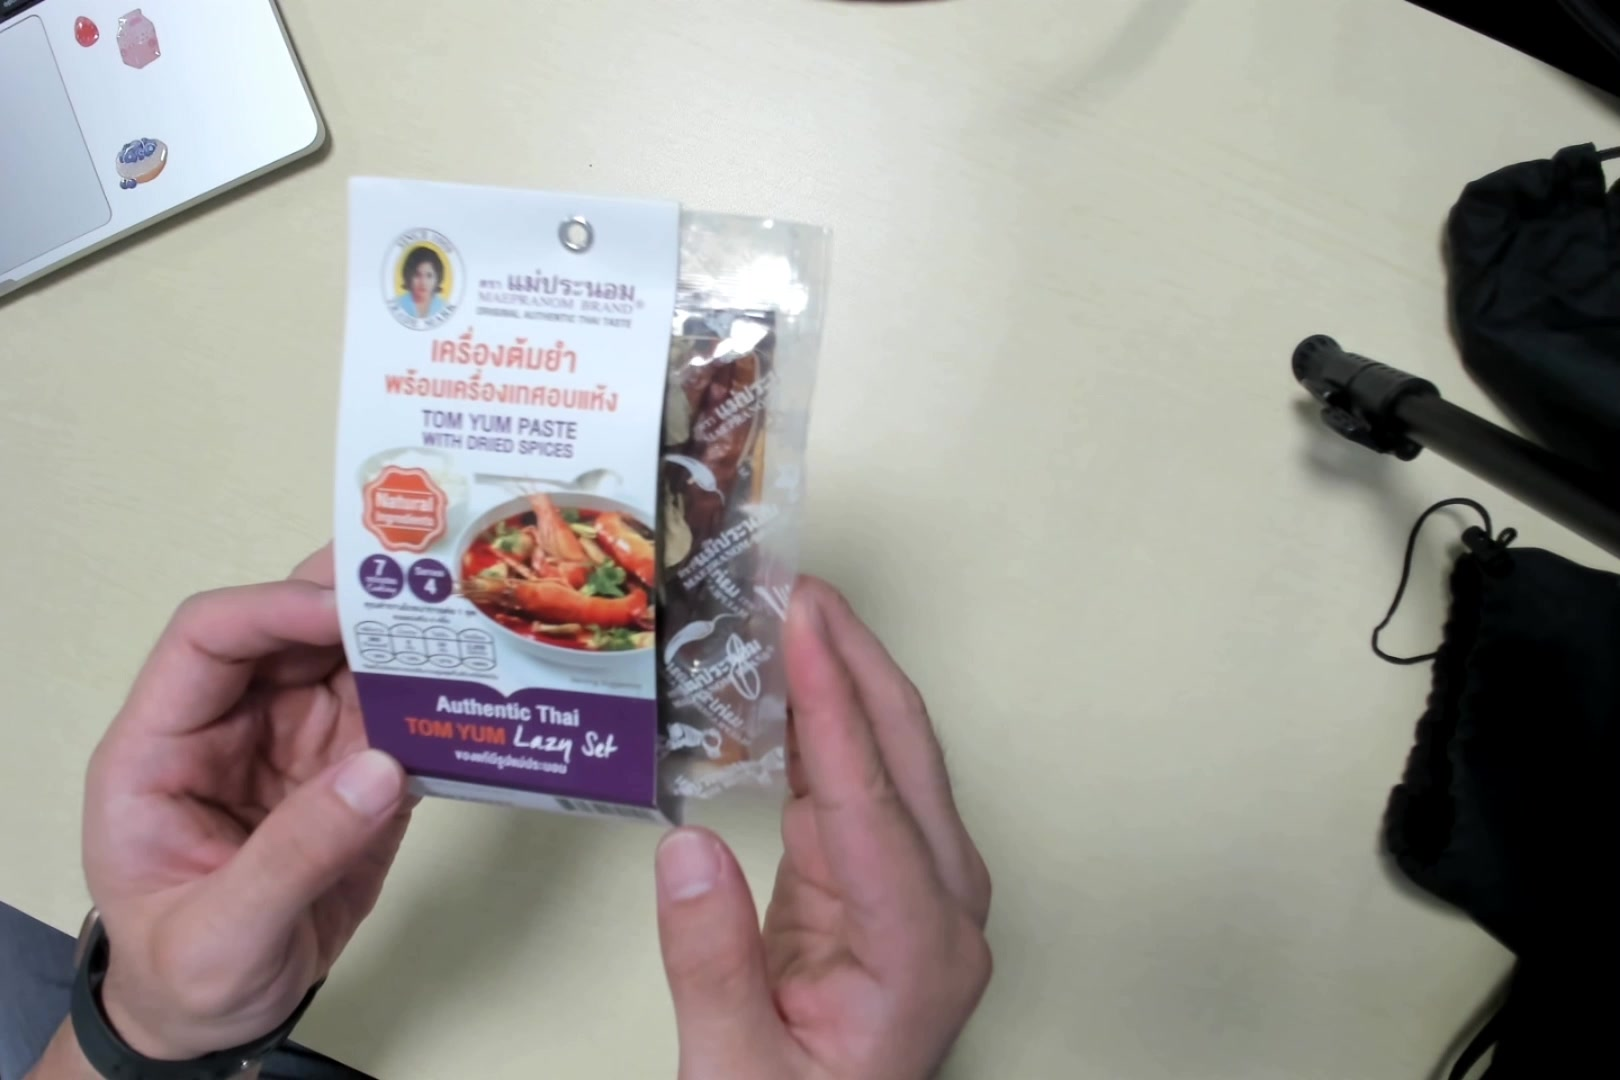OtherSauceDressingSoupBaswPaste_0-99g_Halal_NonHealthy: (340, 193, 788, 802)
